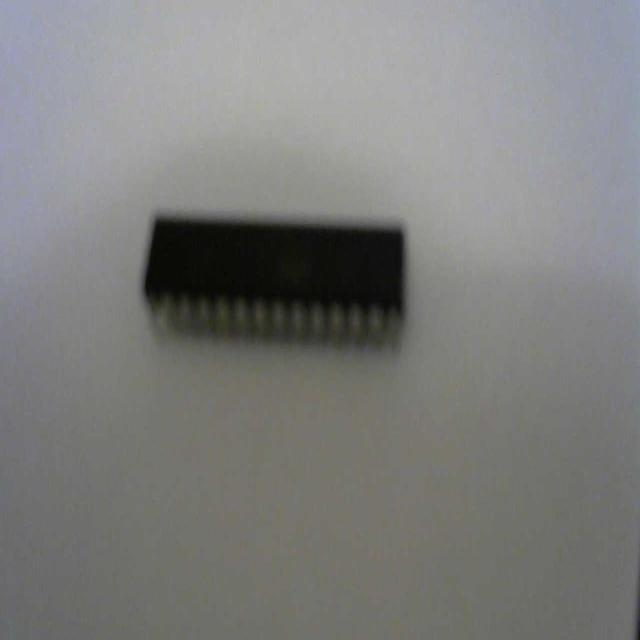atmega: (141, 207, 408, 357)
